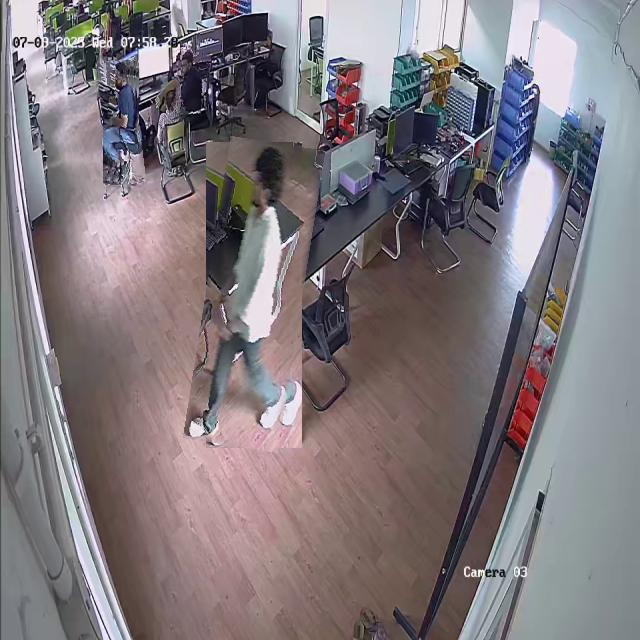person: (194, 139, 314, 451), (100, 60, 142, 185), (171, 50, 208, 123)
